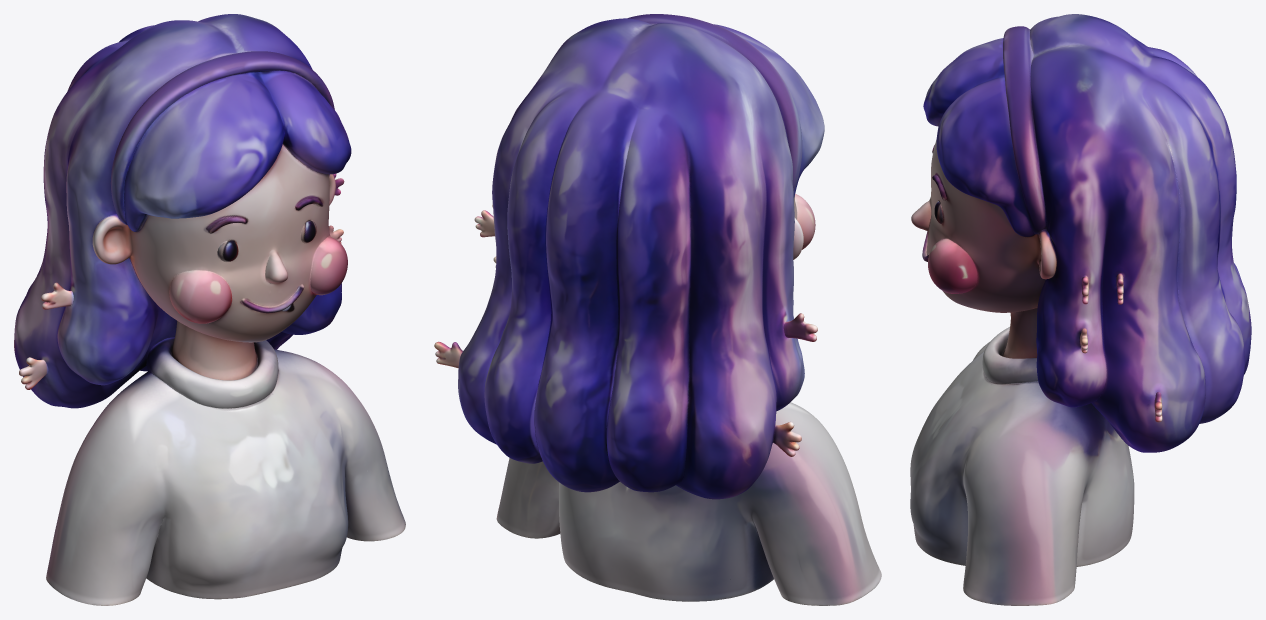
The model's file is untitled_Rodin 3D V2_2026-10-30_00-19-59.glb.
3 renders of one model, left to right at view 1: azimuth 30°, elevation 25°; view 2: azimuth 150°, elevation 25°; view 3: azimuth 270°, elevation 25°, orthographic. The views are drawn at different scales.
Parts seen in each view (by area): view 1: model; view 2: model; view 3: model.
Part boxes in pixels (<box>): model: <box>14,14,405,605</box>; model: <box>434,14,881,605</box>; model: <box>910,14,1251,605</box>.
Bounding box in the file's own units: 1.28 × 1.84 × 1.14.
Materials: 1 (1 with a texture image).
